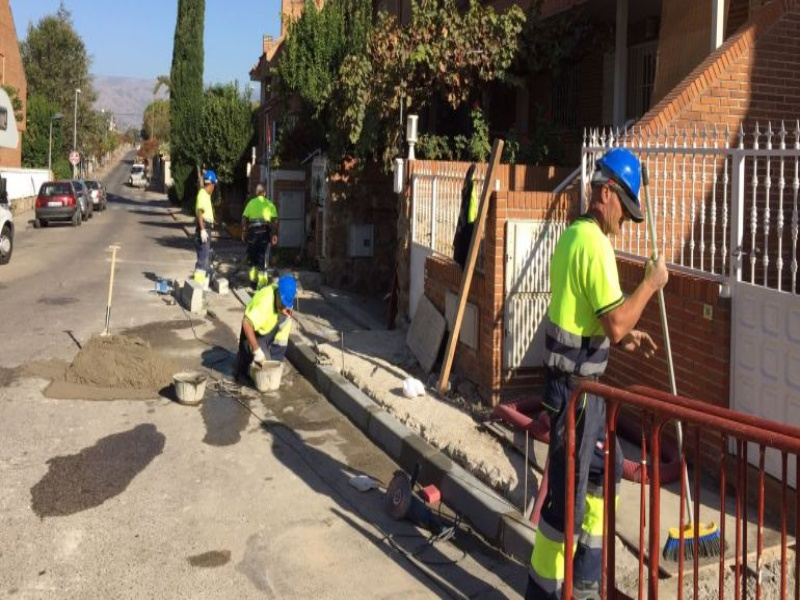casco: (592, 144, 644, 210), (276, 269, 299, 311), (202, 166, 220, 184)
